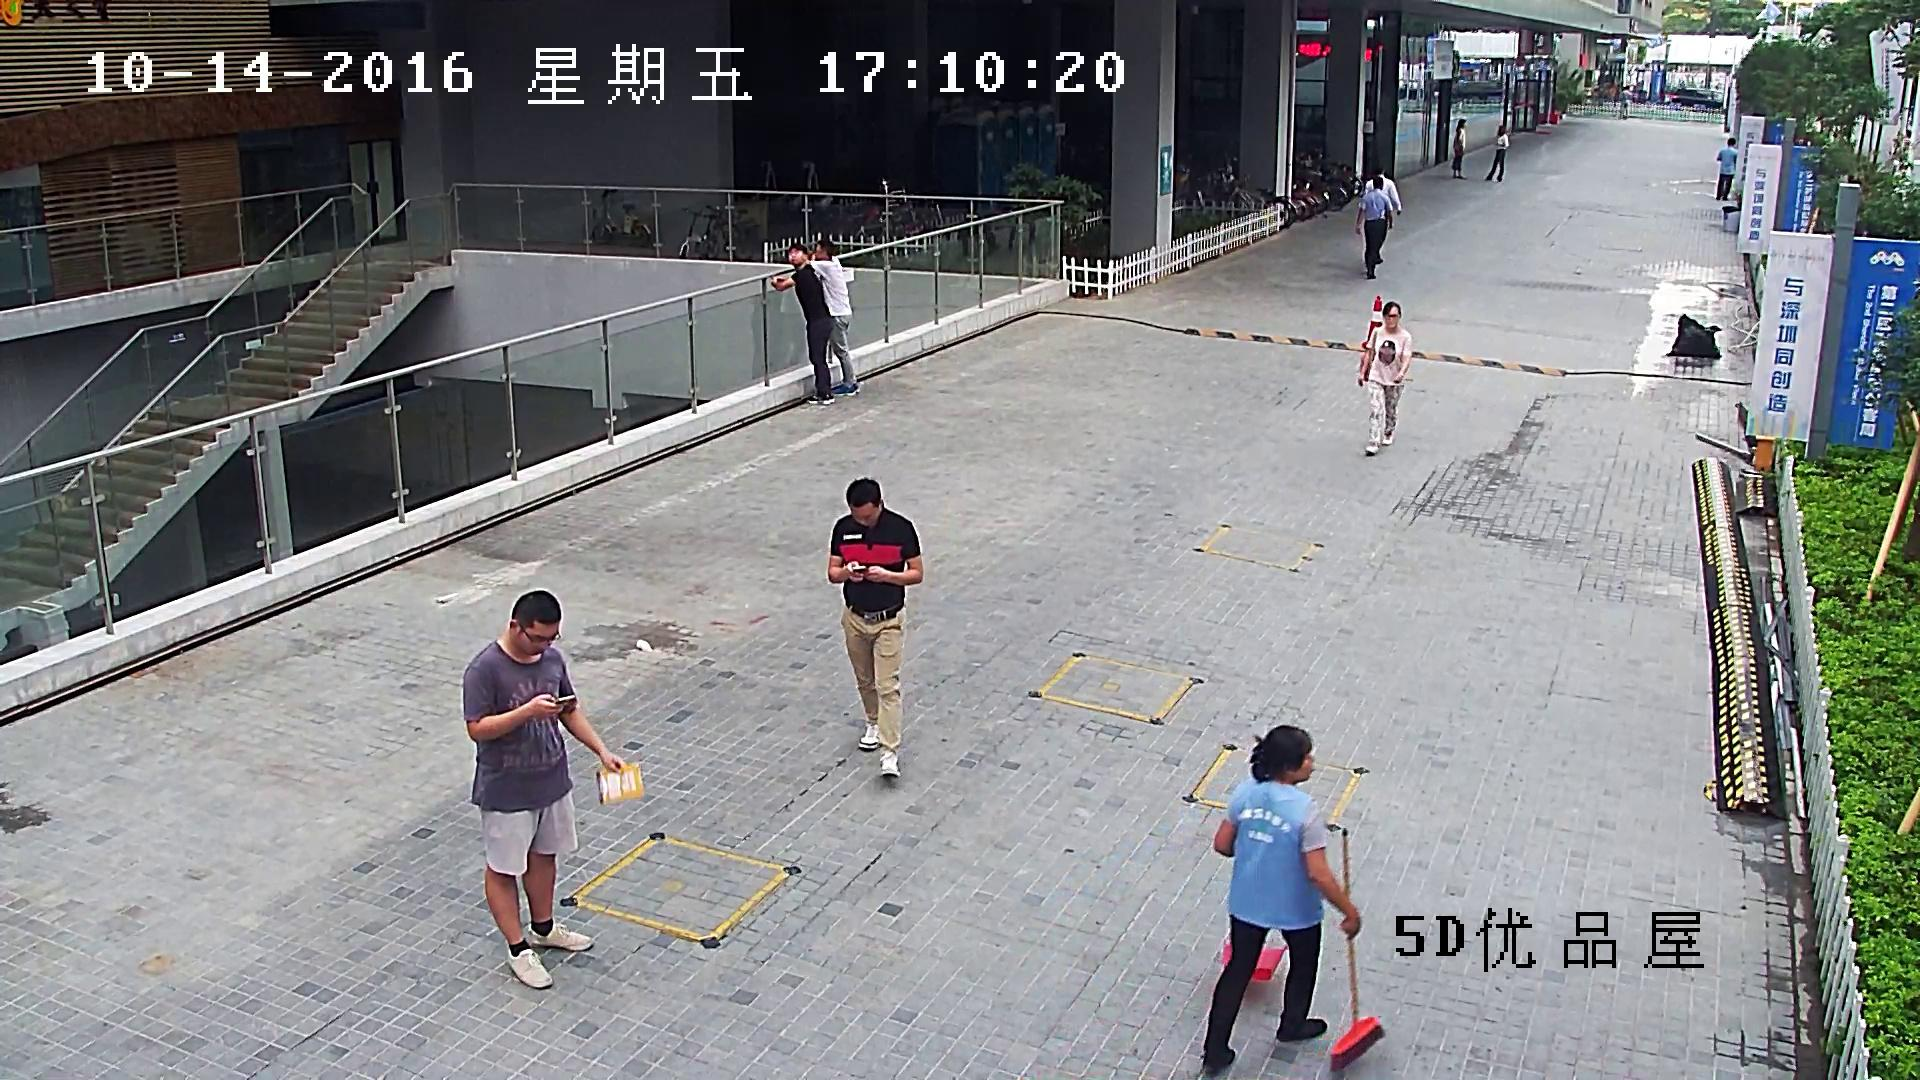person: (463, 590, 643, 990), (1202, 725, 1385, 1077), (1201, 724, 1360, 1079), (827, 478, 922, 778), (770, 243, 835, 404), (1357, 301, 1412, 455), (808, 239, 860, 395), (1359, 165, 1401, 263), (1355, 176, 1392, 280), (1716, 137, 1737, 200), (1485, 125, 1508, 181), (1451, 119, 1465, 179), (1619, 86, 1631, 118)
